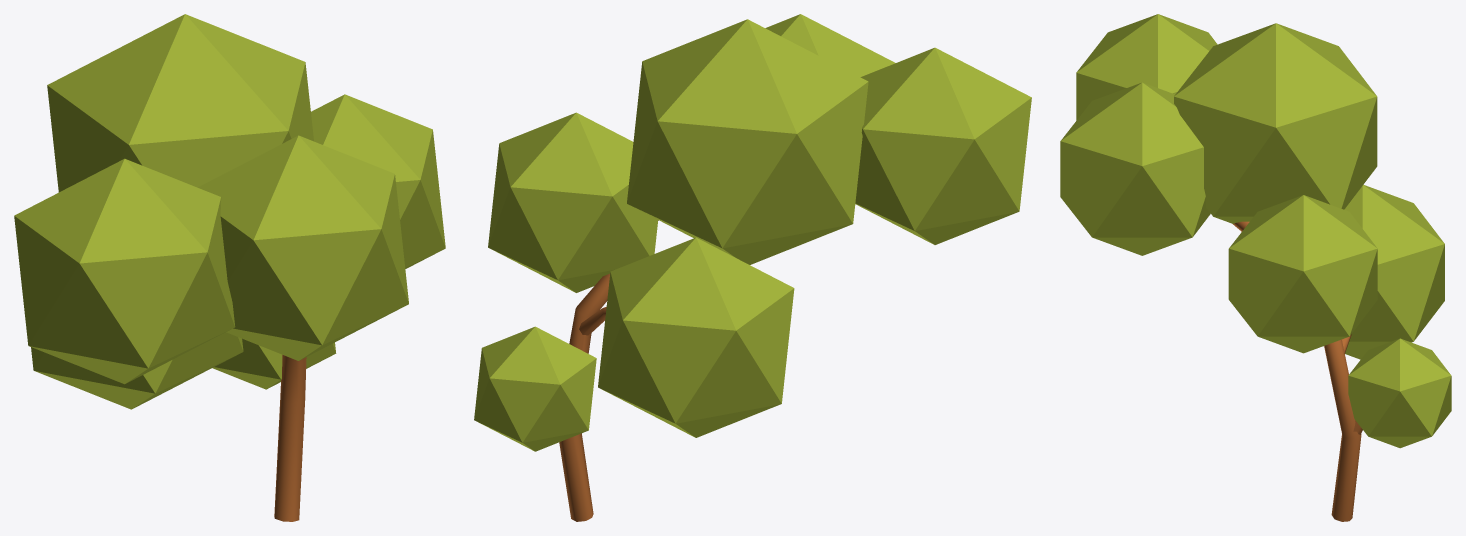
Rendered from cherryTreesVisual-compressed.glb.
3 views of the same model, side by side, from view 1: azimuth 30°, elevation 25°; view 2: azimuth 150°, elevation 25°; view 3: azimuth 270°, elevation 25° (orthographic). The views are drawn at different scales.
Parts seen in each view (by area): view 1: treeLeaves.014, treeLeaves.018, treeLeaves.013, treeLeaves.015, treeLeaves.016, treeBody.015, treeLeaves.017; view 2: treeLeaves.013, treeLeaves.016, treeLeaves.014, treeLeaves.015, treeLeaves.017, treeBody.015, treeLeaves.018; view 3: treeLeaves.013, treeLeaves.018, treeLeaves.015, treeLeaves.016, treeLeaves.017, treeLeaves.014, treeBody.015.
Part boxes in pixels (left/top/right/bottom): treeLeaves.014: left=14, top=158, right=235, bottom=384; treeLeaves.018: left=198, top=135, right=408, bottom=360; treeLeaves.013: left=47, top=14, right=313, bottom=192; treeLeaves.015: left=311, top=94, right=445, bottom=268; treeLeaves.016: left=31, top=332, right=243, bottom=409; treeBody.015: left=274, top=355, right=306, bottom=521; treeLeaves.017: left=212, top=338, right=336, bottom=389; treeLeaves.013: left=627, top=19, right=868, bottom=264; treeLeaves.016: left=598, top=237, right=794, bottom=437; treeLeaves.014: left=855, top=47, right=1031, bottom=244; treeLeaves.015: left=488, top=112, right=658, bottom=292; treeLeaves.017: left=474, top=326, right=596, bottom=451; treeBody.015: left=559, top=220, right=658, bottom=521; treeLeaves.018: left=765, top=14, right=895, bottom=77; treeLeaves.013: left=1174, top=23, right=1377, bottom=223; treeLeaves.018: left=1060, top=82, right=1210, bottom=255; treeLeaves.015: left=1228, top=195, right=1377, bottom=353; treeLeaves.016: left=1344, top=185, right=1444, bottom=359; treeLeaves.017: left=1348, top=338, right=1451, bottom=448; treeLeaves.014: left=1076, top=14, right=1217, bottom=120; treeBody.015: left=1233, top=221, right=1362, bottom=521.
Size of the model in its own units: 6.07 by 6.66 by 5.36.
1 material, 1 textured.
